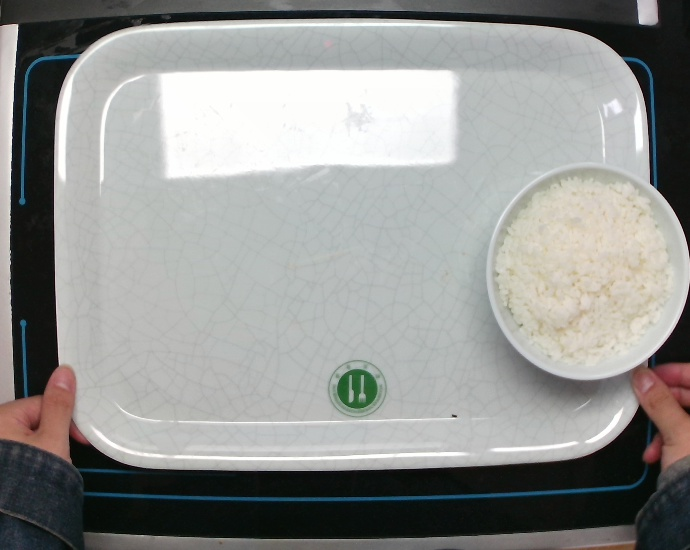JYsf-Fan_Wan: (483, 160, 690, 382)
